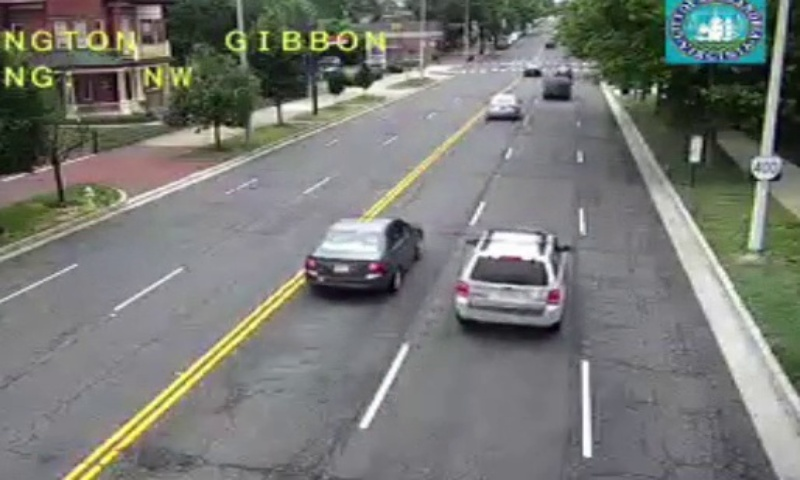car: (452, 227, 566, 330), (303, 218, 423, 289), (485, 93, 521, 120)
